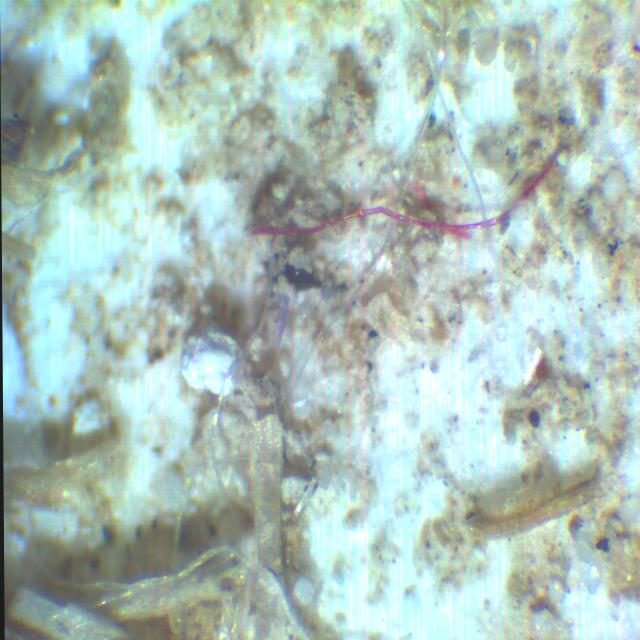microplastic: (273, 11, 475, 429), (184, 181, 333, 518), (244, 150, 572, 273), (400, 0, 499, 247)
